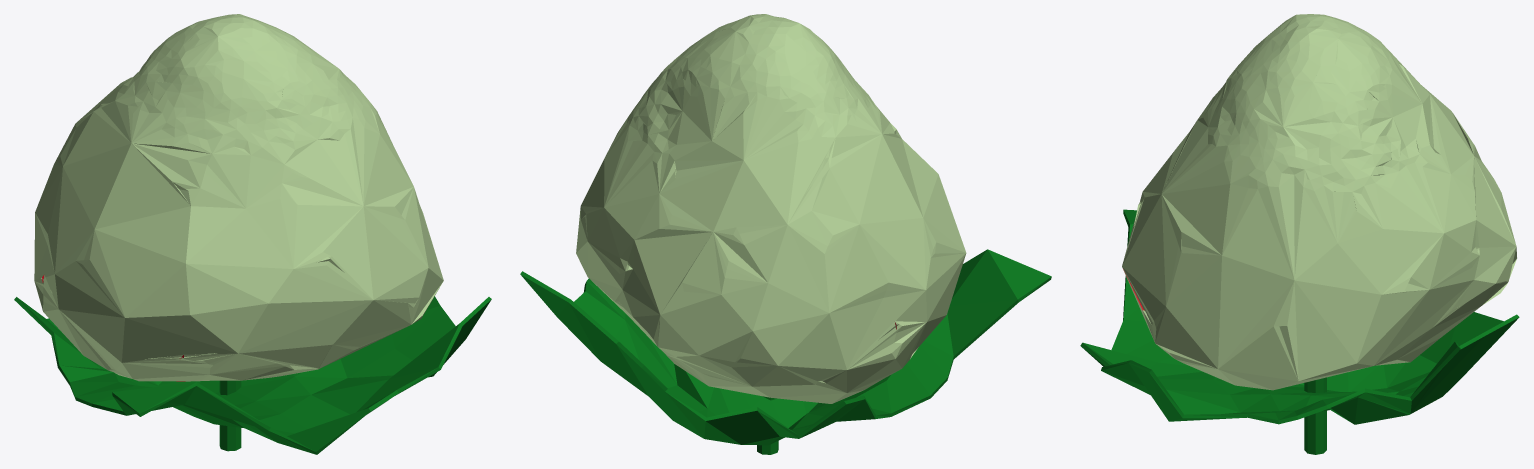
File: unripeberry.dae
3 views of the same model, side by side, from view 1: azimuth 30°, elevation 25°; view 2: azimuth 150°, elevation 25°; view 3: azimuth 270°, elevation 25° (orthographic).
Parts seen in each view (by area): view 1: 1Mberry; view 2: 1Mberry; view 3: 1Mberry.
Boxes of the visible parts, bbox=[...] form: 1Mberry: bbox=[14, 14, 491, 454]; 1Mberry: bbox=[520, 14, 1051, 454]; 1Mberry: bbox=[1080, 14, 1519, 454].
Bounding box in the file's own units: 1.09 × 1.11 × 1.19.
